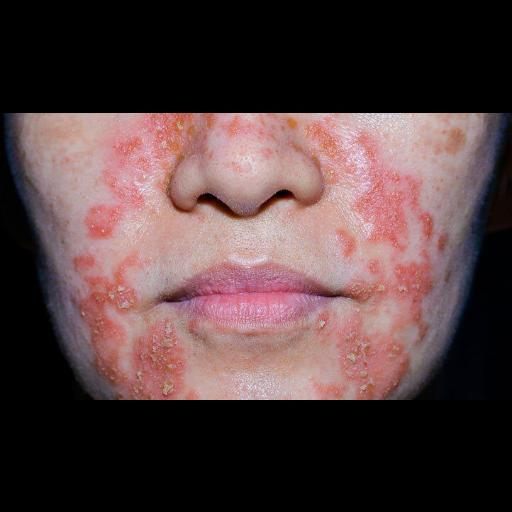Skin_Lesion: (82, 196, 118, 238), (368, 188, 396, 228), (100, 127, 140, 153), (88, 294, 108, 340), (240, 338, 274, 364), (155, 326, 173, 370), (182, 319, 208, 347), (379, 338, 405, 364), (111, 172, 141, 192), (154, 374, 176, 400), (312, 112, 340, 132), (337, 231, 359, 255), (76, 248, 102, 268), (314, 310, 336, 332), (348, 351, 376, 367), (139, 112, 163, 130), (357, 379, 377, 399), (412, 126, 432, 146), (154, 136, 174, 156), (320, 164, 340, 184), (127, 251, 151, 267), (422, 211, 438, 233), (247, 118, 271, 132), (448, 130, 466, 148), (113, 266, 131, 284), (288, 136, 306, 152), (225, 116, 243, 132), (310, 378, 328, 394), (112, 112, 140, 122), (285, 114, 301, 130), (122, 286, 140, 300), (411, 328, 425, 344), (392, 236, 408, 250), (408, 174, 424, 188), (204, 112, 218, 128), (410, 304, 424, 320), (86, 271, 102, 285), (324, 138, 338, 154), (438, 232, 450, 250), (342, 328, 356, 342), (366, 260, 380, 272), (374, 282, 386, 294), (204, 144, 216, 156), (188, 390, 202, 400), (421, 246, 431, 260), (390, 321, 400, 331)
